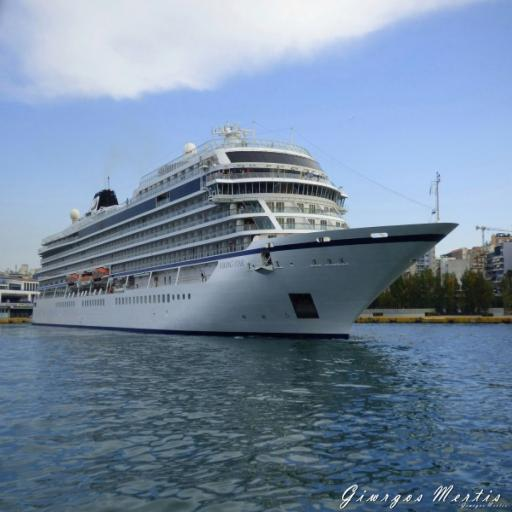cruises: (27, 118, 464, 355)
